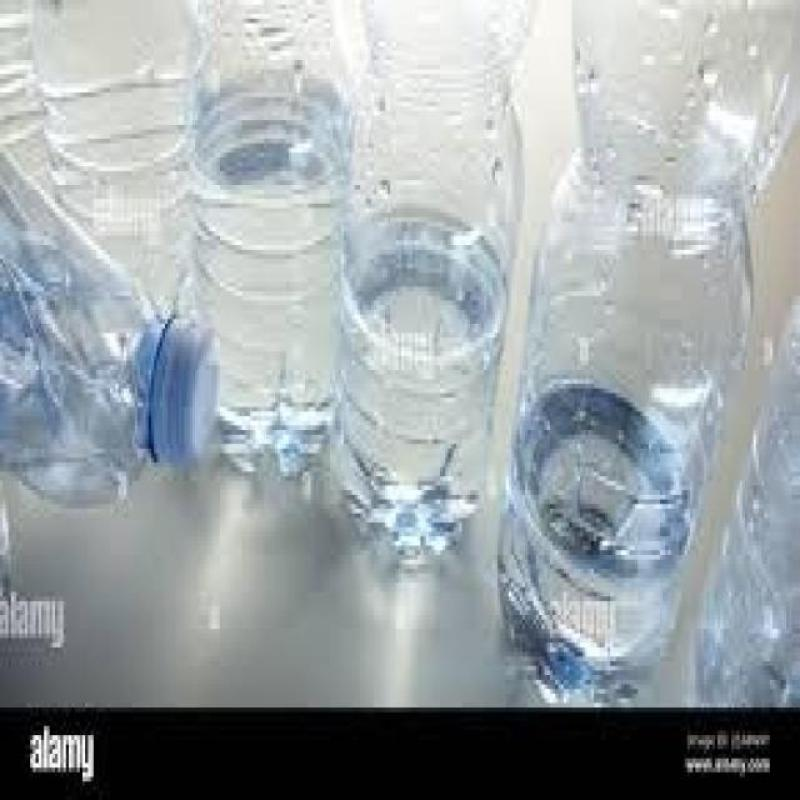botella: (497, 0, 800, 707), (342, 0, 538, 564), (0, 143, 222, 509), (193, 0, 344, 490), (31, 0, 194, 324), (687, 291, 800, 707), (0, 0, 41, 176)
